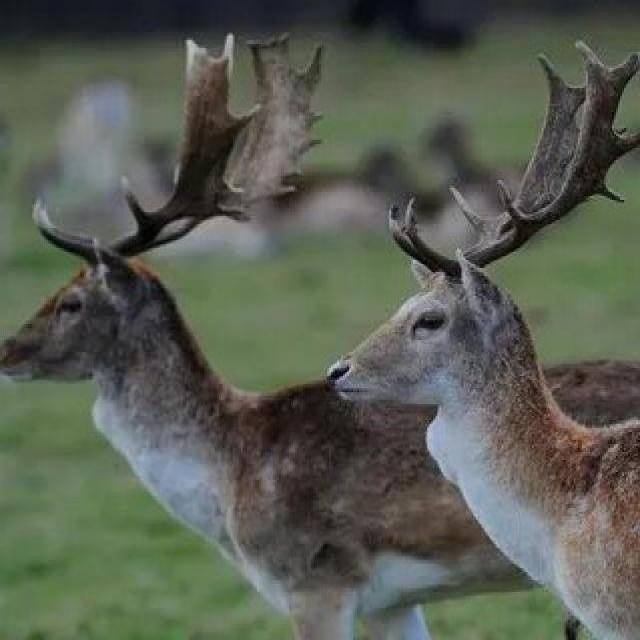deer: (5, 206, 491, 638), (425, 234, 640, 640)
